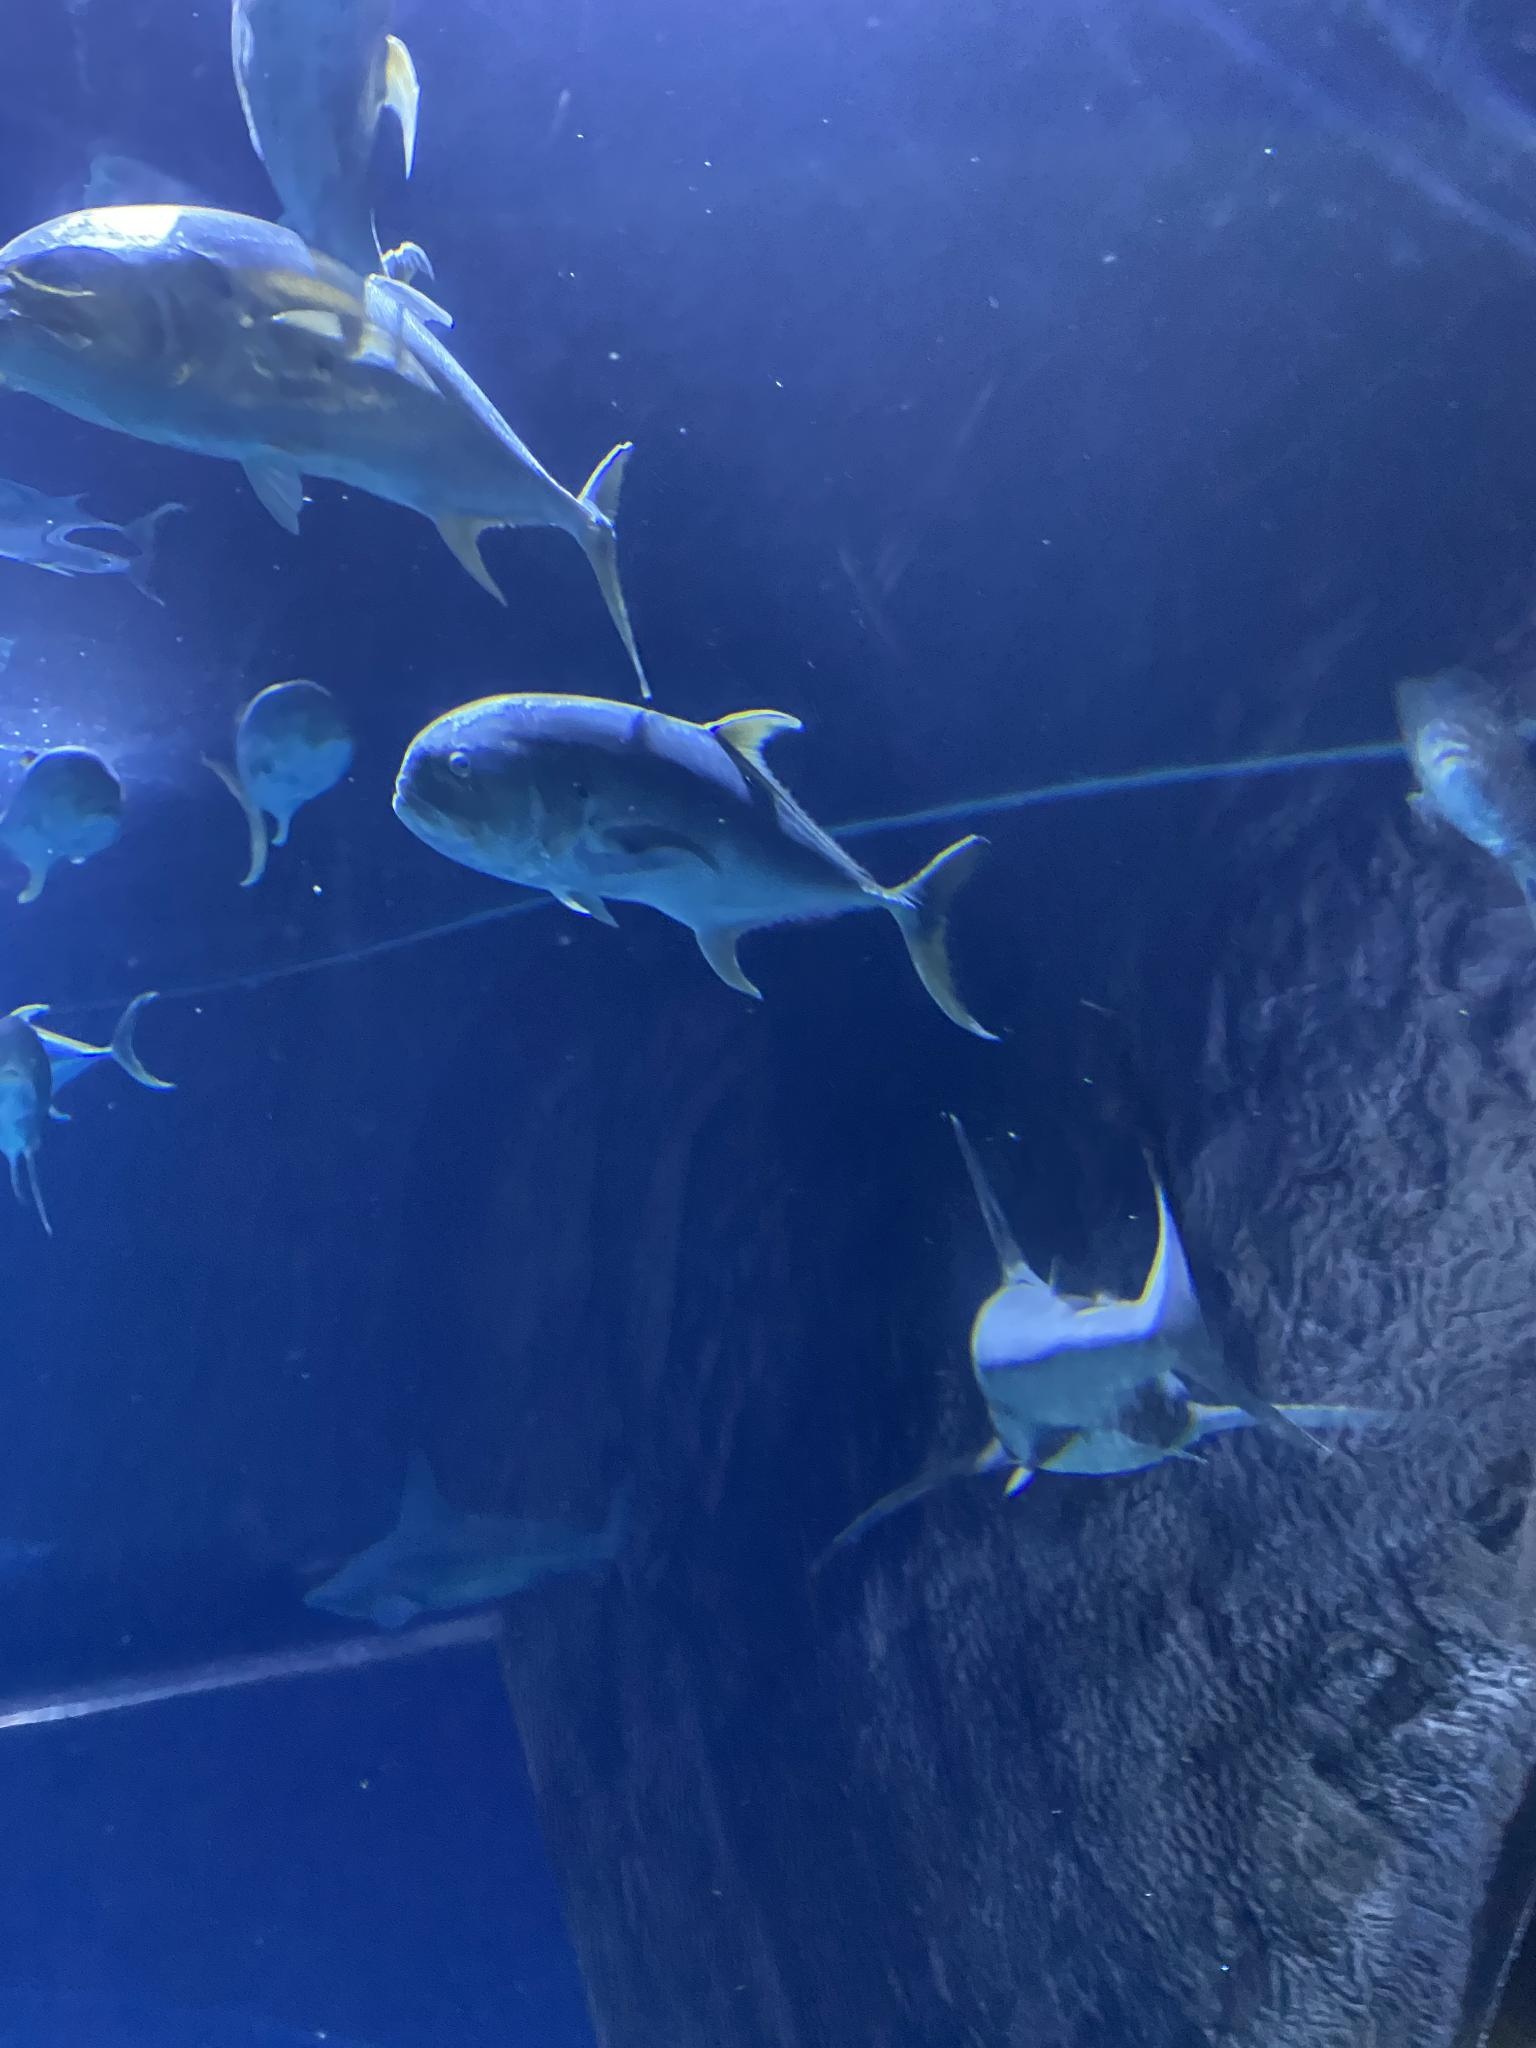fish: (0, 206, 658, 700), (389, 690, 1004, 1043), (232, 0, 423, 284), (1391, 674, 1536, 914), (197, 681, 360, 892), (0, 474, 186, 610), (0, 997, 174, 1122), (0, 747, 127, 903), (0, 1011, 60, 1247)
shark: (800, 1111, 1431, 1593), (300, 1451, 644, 1637)
